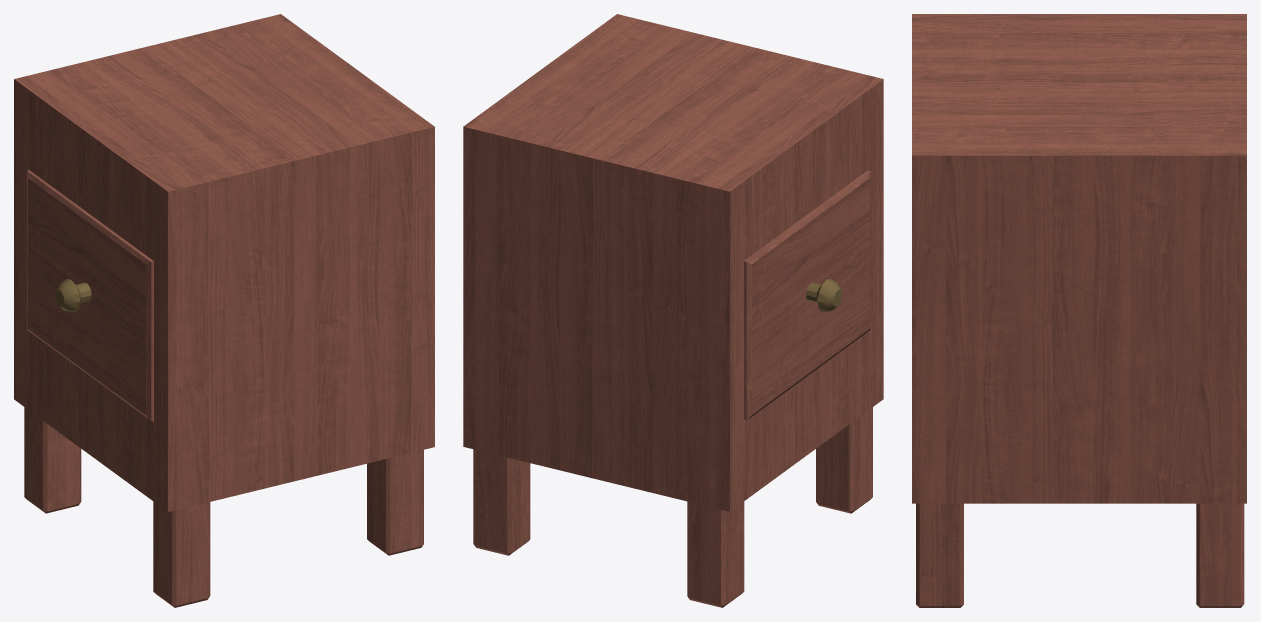
Rendered from table.fbx.
3 renders of one model, left to right at view 1: azimuth 30°, elevation 25°; view 2: azimuth 150°, elevation 25°; view 3: azimuth 270°, elevation 25°, orthographic. The views are drawn at different scales.
Visible parts, largest first — view 1: Cube.187; view 2: Cube.187; view 3: Cube.187.
Part boxes in pixels (x1,y1,x2,y2): Cube.187: (14,14,434,607); Cube.187: (463,14,883,607); Cube.187: (912,14,1246,607).
Size of the model in its own units: 25.07 by 33.86 by 22.45.
